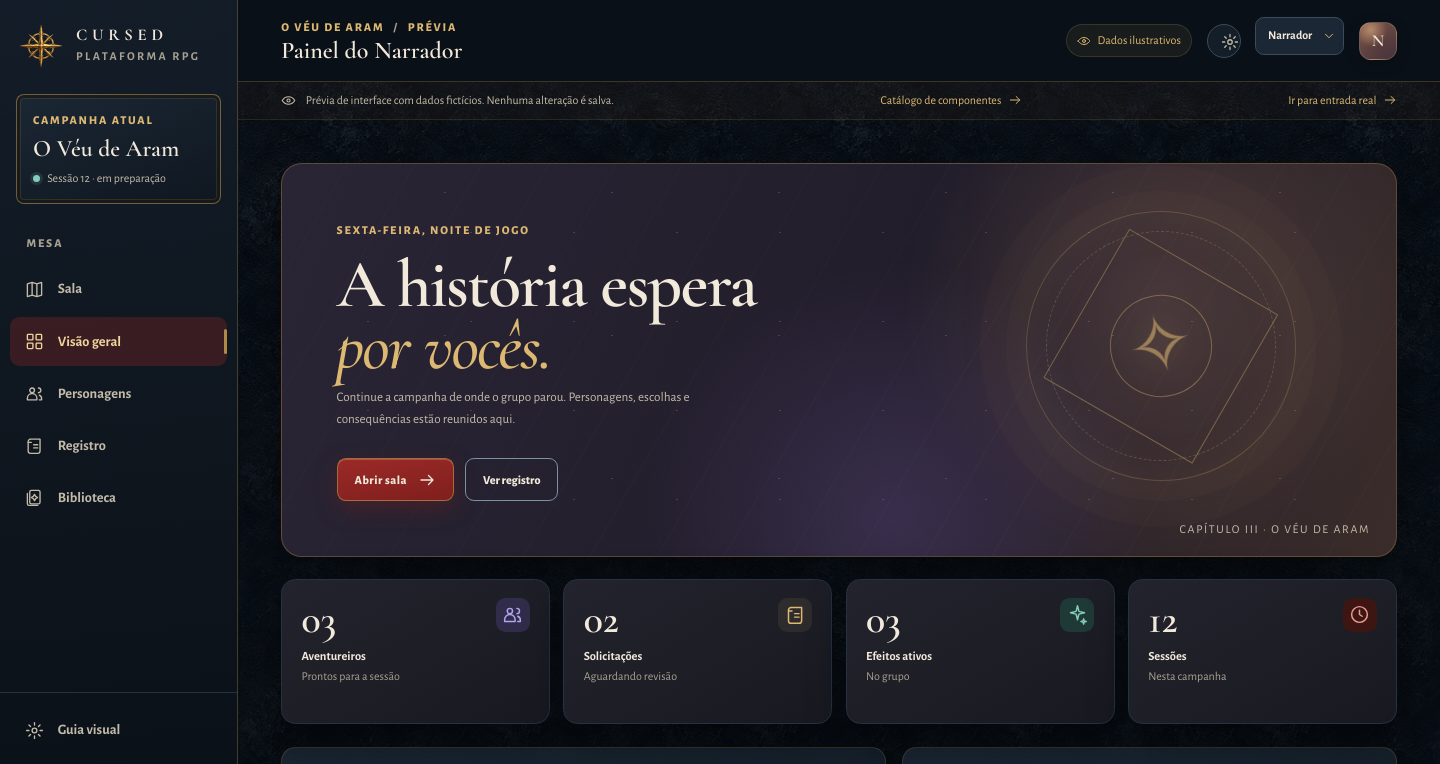
Test: prévia navegável › exibe os tokens e componentes no guia visual
Click the button named "Abrir guia visual": (1224, 40) x1=1207 y1=24 x2=1241 y2=58
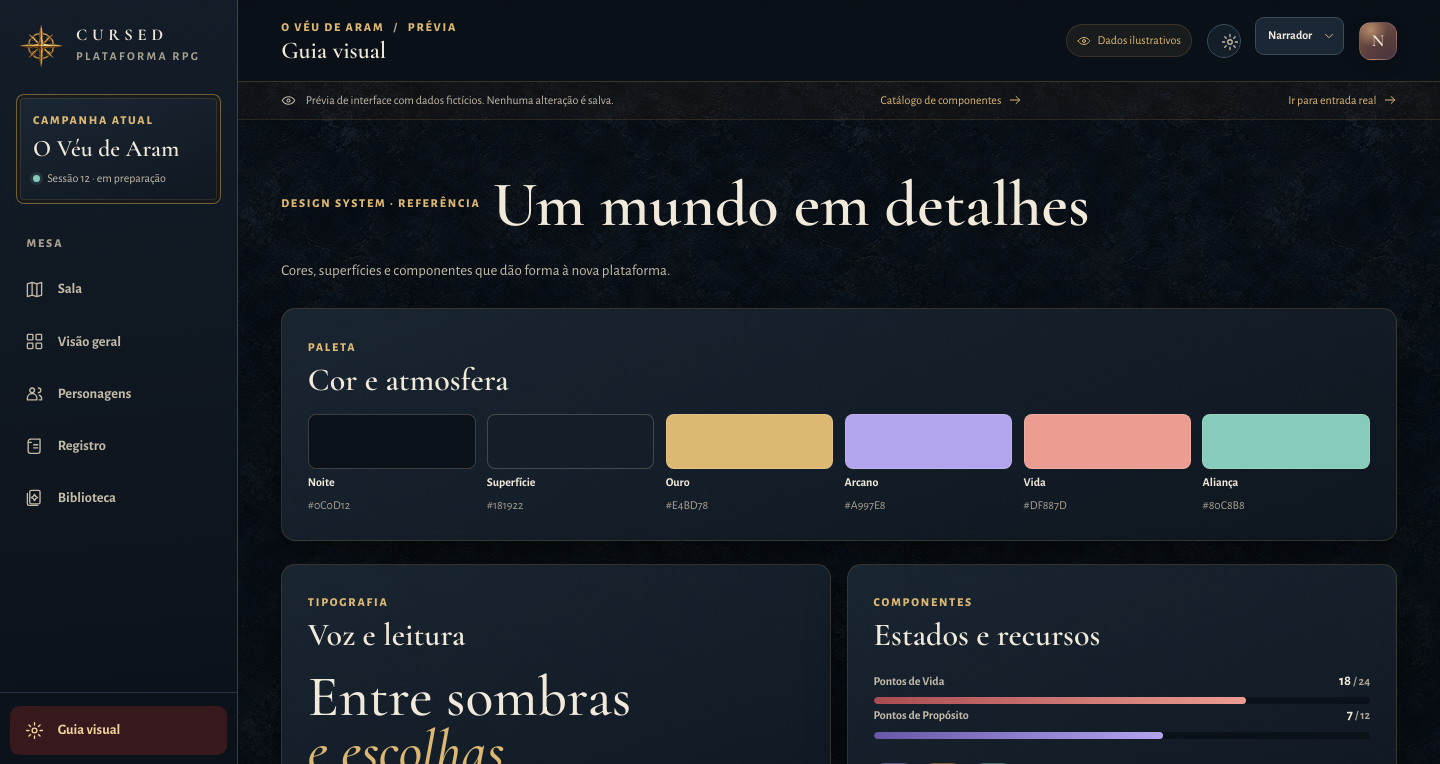
Expected: the heading "Um mundo em detalhes" is shown, x1=492 y1=173 x2=1090 y2=237
Expected: the text "#E4BD78" is shown, x1=666 y1=499 x2=708 y2=511
Expected: the progress indicator named "Pontos de Vida" is shown, x1=874 y1=697 x2=1370 y2=704
